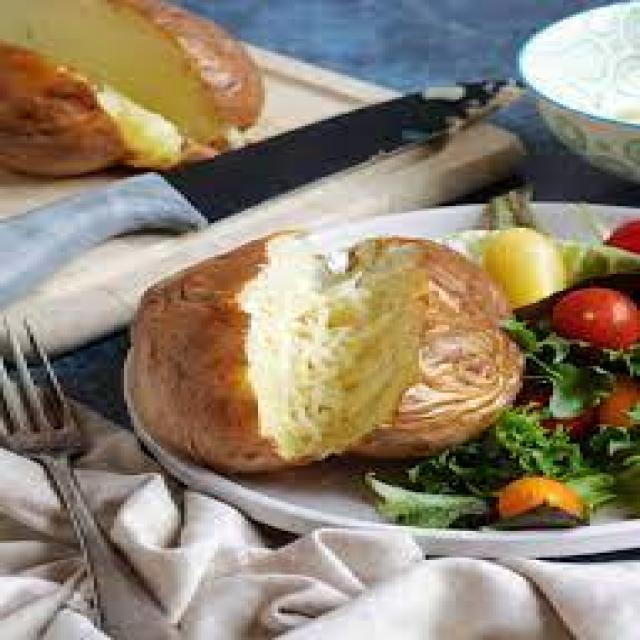Baked Potato: (136, 242, 528, 450)
